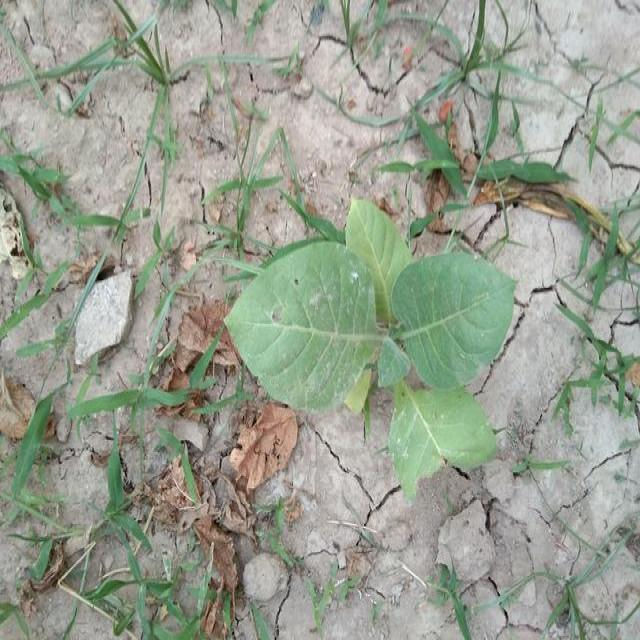crop: (232, 192, 522, 496)
